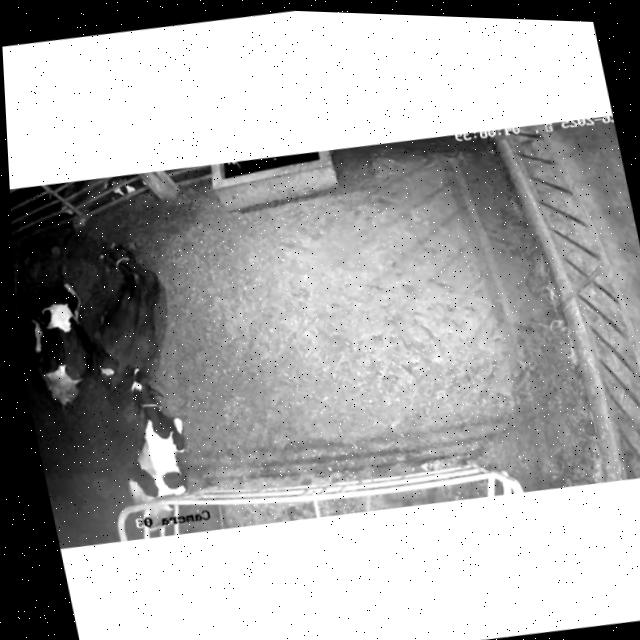lay: (13, 249, 106, 424), (94, 242, 168, 388), (129, 369, 188, 503)
